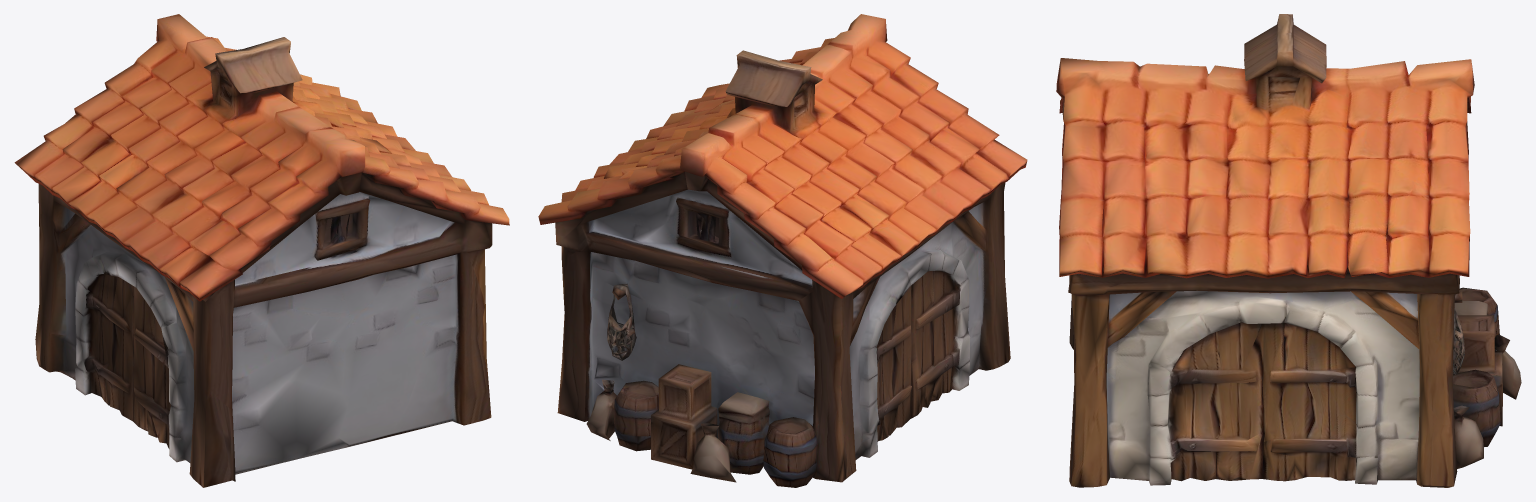
Rendered from storehouse_l1.glb.
3 renders of one model, left to right at view 1: azimuth 30°, elevation 25°; view 2: azimuth 150°, elevation 25°; view 3: azimuth 270°, elevation 25°, orthographic. The views are drawn at different scales.
Visible parts, largest first — view 1: tripo_node_44165c0b-c698-444f-b3fe-088ca30295ef; view 2: tripo_node_44165c0b-c698-444f-b3fe-088ca30295ef; view 3: tripo_node_44165c0b-c698-444f-b3fe-088ca30295ef.
Part boxes in pixels (x1,y1,x2,y2): tripo_node_44165c0b-c698-444f-b3fe-088ca30295ef: (14,14,509,487); tripo_node_44165c0b-c698-444f-b3fe-088ca30295ef: (538,14,1027,487); tripo_node_44165c0b-c698-444f-b3fe-088ca30295ef: (1056,14,1521,487).
Bounding box in the file's own units: 0.8677 × 0.8819 × 0.981.
Materials: 1 (1 with a texture image).
